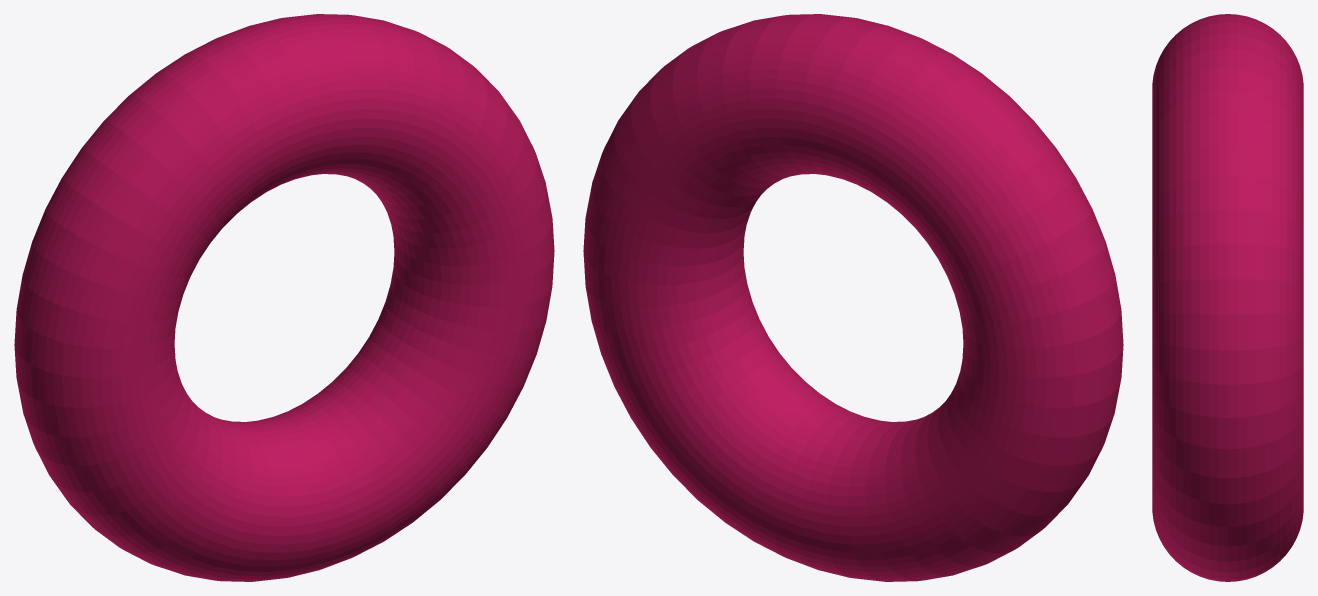
3 renders of one model, left to right at view 1: azimuth 30°, elevation 25°; view 2: azimuth 150°, elevation 25°; view 3: azimuth 270°, elevation 25°, orthographic. The views are drawn at different scales.
Visible parts, largest first — view 1: world; view 2: world; view 3: world.
Part boxes in pixels (x1,y1,x2,y2): world: (14, 14, 554, 581); world: (583, 14, 1123, 581); world: (1152, 14, 1303, 581).
Bounding box in the file's own units: 36.4 × 36.33 × 9.71.
